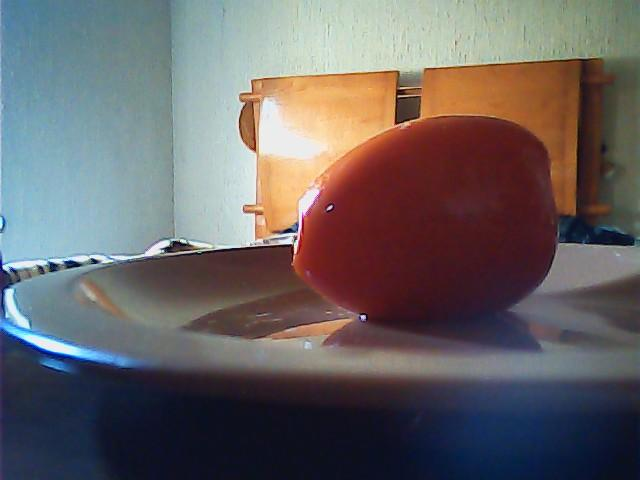maduro: (292, 112, 563, 321)
